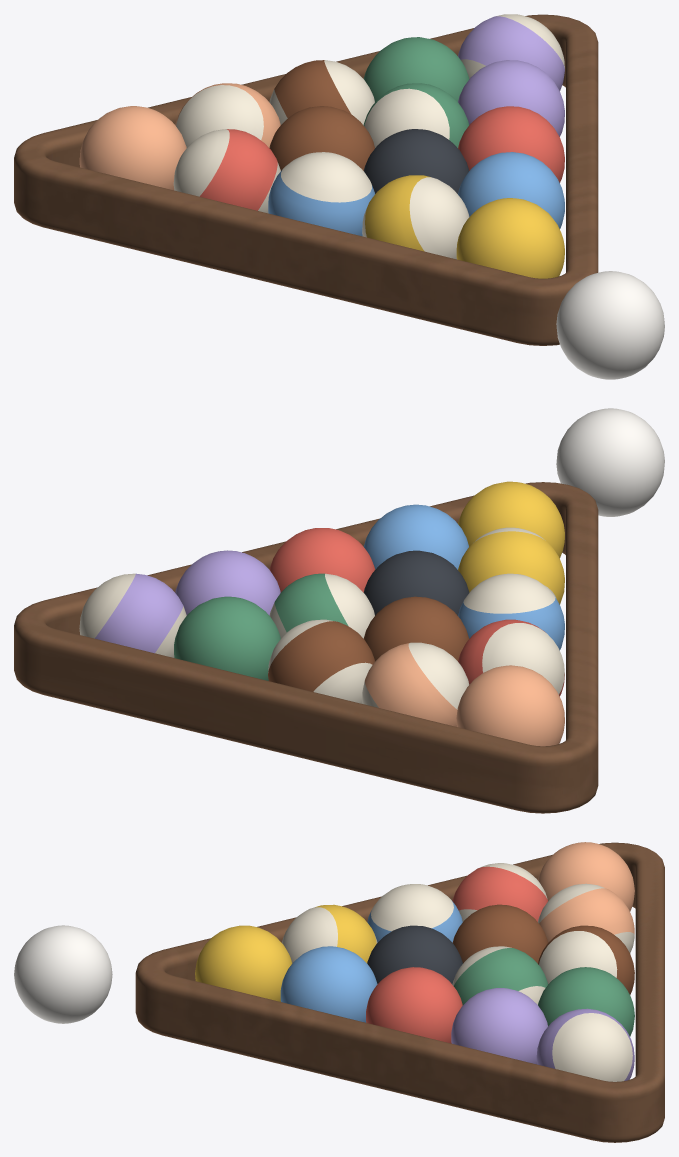
Rendered from collision-ball-set.glb.
3 renders of one model, top to bottom at view 1: azimuth 30°, elevation 25°; view 2: azimuth 150°, elevation 25°; view 3: azimuth 270°, elevation 25°, orthographic. The views are drawn at different scales.
Visible parts, largest first — view 1: billiard-balls_body, billiard-balls_ball_cue, billiard-balls_ball_solid_yellow, billiard-balls_ball_stripe_red, billiard-balls_ball_stripe_blue, billiard-balls_ball_stripe_yellow, billiard-balls_ball_solid_orange, billiard-balls_ball_solid_purple, billiard-balls_ball_solid_blue, billiard-balls_ball_stripe_purple, billiard-balls_ball_solid_red, billiard-balls_ball_solid_green (+5 smaller); view 2: billiard-balls_body, billiard-balls_ball_cue, billiard-balls_ball_solid_orange, billiard-balls_ball_stripe_orange, billiard-balls_ball_stripe_maroon, billiard-balls_ball_stripe_purple, billiard-balls_ball_solid_green, billiard-balls_ball_stripe_blue, billiard-balls_ball_solid_yellow, billiard-balls_ball_stripe_yellow, billiard-balls_ball_stripe_red, billiard-balls_ball_black_black (+5 smaller); view 3: billiard-balls_body, billiard-balls_ball_cue, billiard-balls_ball_stripe_purple, billiard-balls_ball_solid_red, billiard-balls_ball_solid_yellow, billiard-balls_ball_solid_blue, billiard-balls_ball_solid_purple, billiard-balls_ball_solid_green, billiard-balls_ball_stripe_orange, billiard-balls_ball_solid_orange, billiard-balls_ball_stripe_maroon, billiard-balls_ball_black_black (+5 smaller).
Boxes of the visible parts, box(x1,y1,x2,y2) form: billiard-balls_body: box(14, 14, 598, 345); billiard-balls_ball_cue: box(556, 271, 664, 379); billiard-balls_ball_solid_yellow: box(456, 198, 564, 278); billiard-balls_ball_stripe_red: box(173, 129, 280, 213); billiard-balls_ball_stripe_blue: box(268, 152, 374, 236); billiard-balls_ball_stripe_yellow: box(362, 175, 469, 259); billiard-balls_ball_solid_orange: box(79, 106, 186, 190); billiard-balls_ball_solid_purple: box(458, 60, 564, 136); billiard-balls_ball_solid_blue: box(458, 152, 564, 228); billiard-balls_ball_stripe_purple: box(458, 14, 564, 90); billiard-balls_ball_solid_red: box(458, 106, 564, 182); billiard-balls_ball_solid_green: box(363, 37, 469, 101); billiard-balls_body: box(14, 482, 598, 813); billiard-balls_ball_cue: box(556, 408, 664, 516); billiard-balls_ball_solid_orange: box(456, 665, 564, 746); billiard-balls_ball_stripe_orange: box(362, 642, 469, 726); billiard-balls_ball_stripe_maroon: box(268, 619, 374, 703); billiard-balls_ball_stripe_purple: box(79, 573, 186, 657); billiard-balls_ball_solid_green: box(174, 596, 280, 680); billiard-balls_ball_stripe_blue: box(458, 573, 564, 650); billiard-balls_ball_solid_yellow: box(458, 481, 564, 558); billiard-balls_ball_stripe_yellow: box(458, 527, 564, 604); billiard-balls_ball_stripe_red: box(458, 619, 564, 696); billiard-balls_ball_black_black: box(363, 550, 469, 615); billiard-balls_body: box(135, 842, 664, 1142); billiard-balls_ball_cue: box(14, 925, 112, 1023); billiard-balls_ball_stripe_purple: box(536, 1008, 634, 1081); billiard-balls_ball_solid_red: box(366, 967, 462, 1043); billiard-balls_ball_solid_yellow: box(195, 925, 292, 1001); billiard-balls_ball_solid_blue: box(280, 946, 377, 1022); billiard-balls_ball_solid_purple: box(451, 988, 547, 1064); billiard-balls_ball_solid_green: box(538, 967, 634, 1036); billiard-balls_ball_stripe_orange: box(538, 883, 634, 953); billiard-balls_ball_solid_orange: box(538, 842, 634, 911); billiard-balls_ball_stripe_maroon: box(538, 925, 634, 994); billiard-balls_ball_black_black: box(367, 925, 462, 984).
Size of the model in its own units: 0.3454 by 0.0571 by 0.3775.
11 materials, 1 textured.
